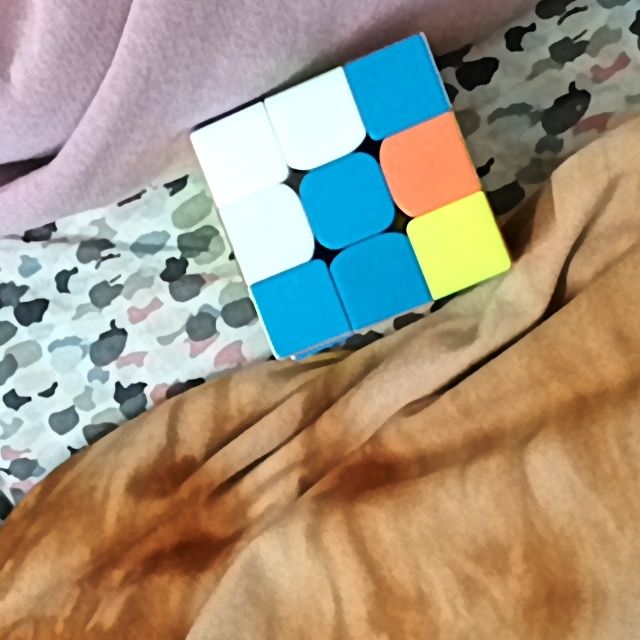tile: (400, 136, 459, 199), (366, 59, 427, 119), (316, 173, 377, 231), (207, 128, 267, 186), (285, 94, 348, 149), (435, 215, 493, 274), (348, 250, 408, 306), (243, 205, 299, 263), (273, 280, 332, 335)
